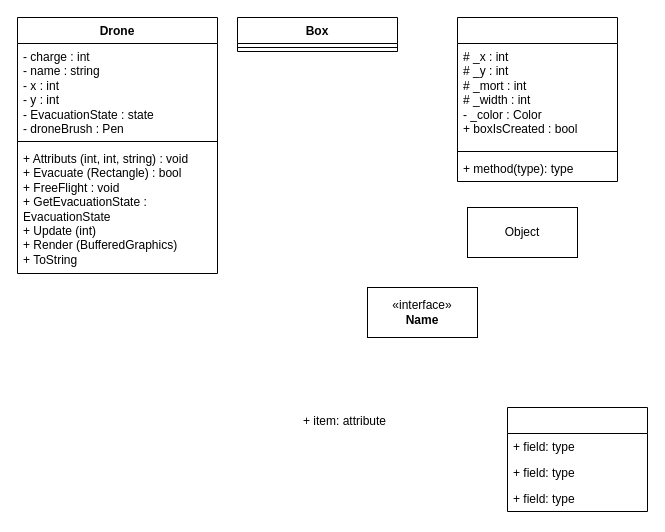
The diagram is 665 pixels wide and 532 high, and some of its shapes have lost their labels. The box of each missing label's shape, as (x1, y1, x2, y2) in pixels:
Building: (456, 16, 618, 182)
Classname: (506, 406, 648, 512)
